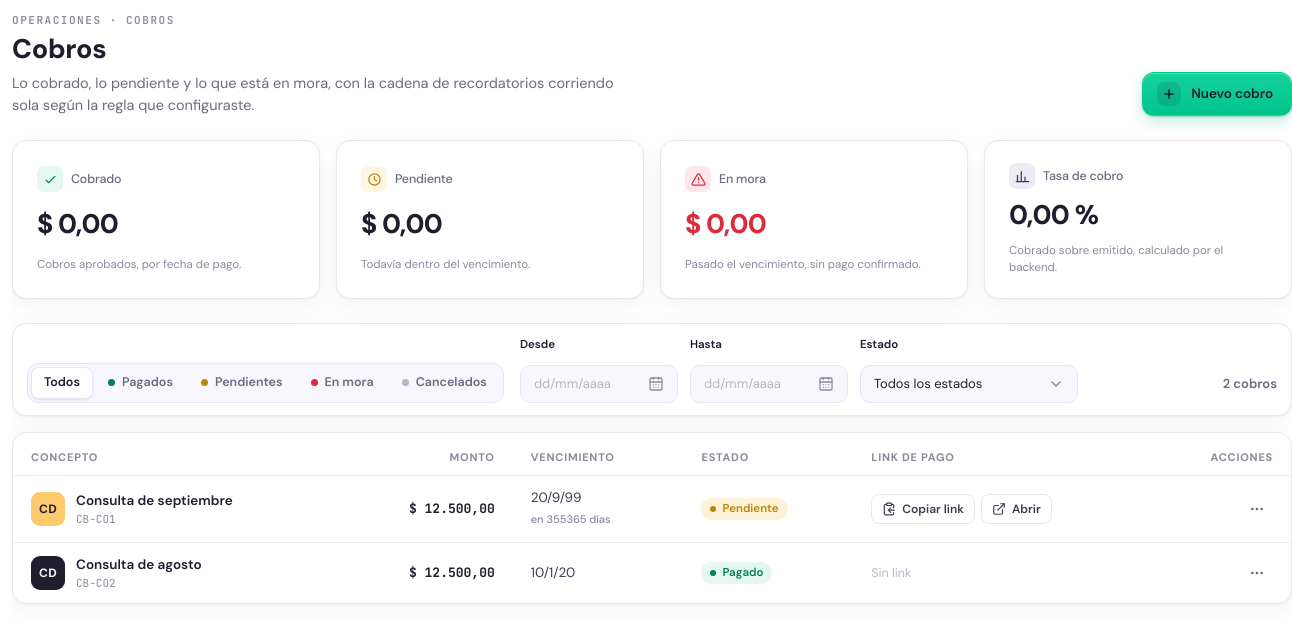
el listado de cobros — link de pago › dice cuando no pudo copiar
Click the button with aria-label "Copiar link de Consulta de septiembre" at (923, 509), box x1=871 y1=494 x2=975 y2=524
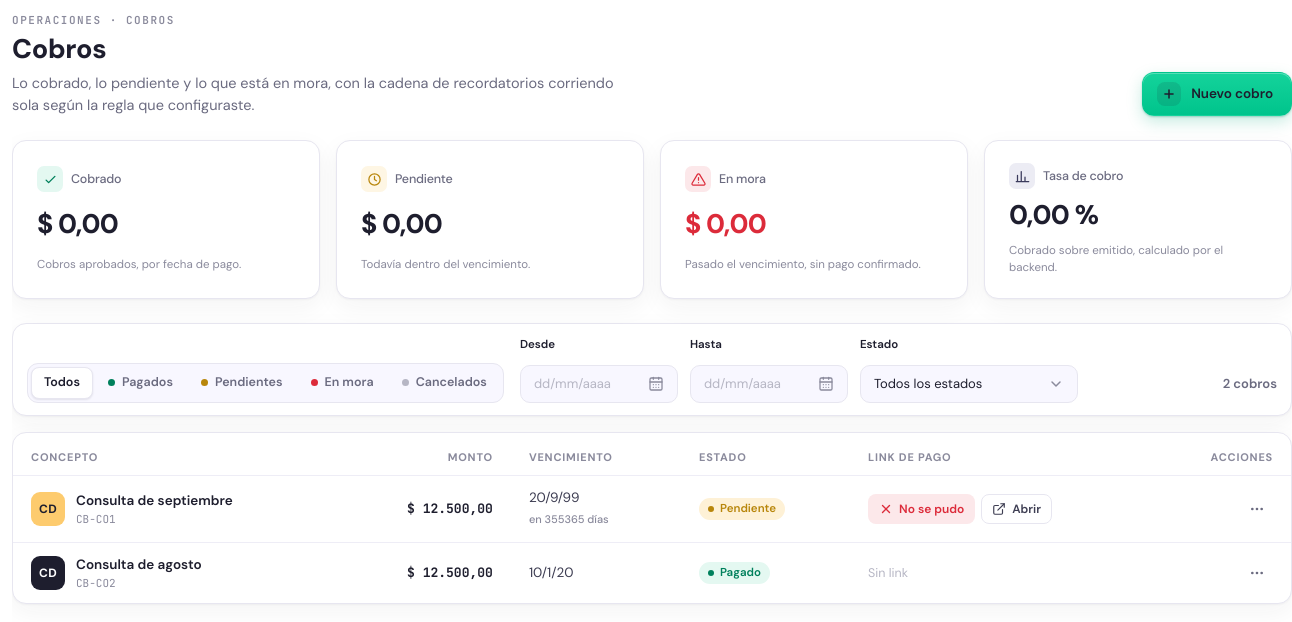
Now the text "No se pudo" is shown, box x1=899 y1=500 x2=964 y2=518
